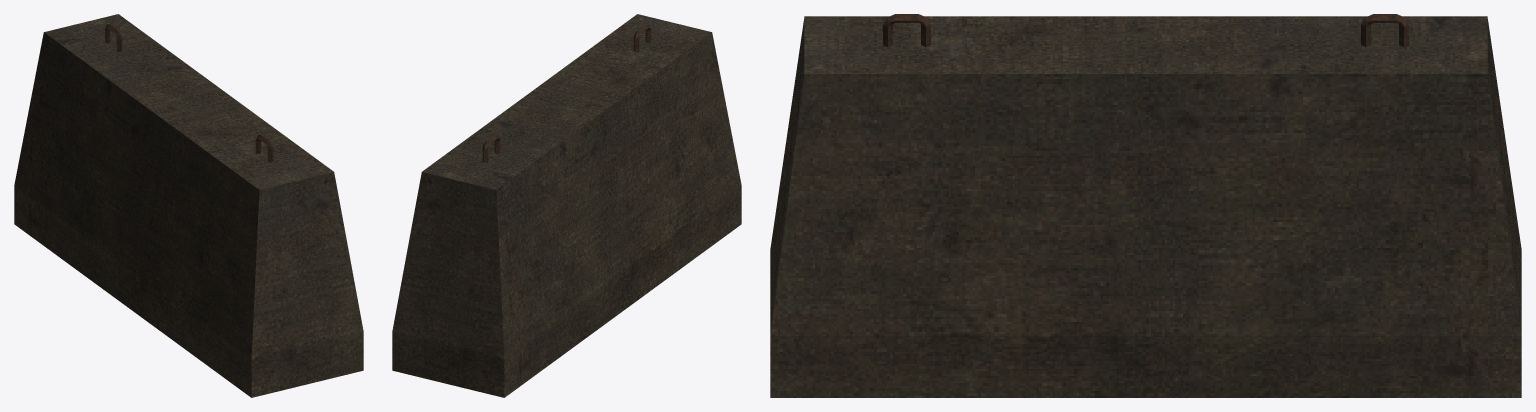
File: concrete_block_mx_1.glb
3 views of the same model, side by side, from view 1: azimuth 30°, elevation 25°; view 2: azimuth 150°, elevation 25°; view 3: azimuth 270°, elevation 25° (orthographic). The views are drawn at different scales.
Visible parts, largest first — view 1: concrete_block_mx_1; view 2: concrete_block_mx_1; view 3: concrete_block_mx_1.
Part boxes in pixels (bbox=[...]): concrete_block_mx_1: bbox=[14, 14, 363, 397]; concrete_block_mx_1: bbox=[392, 14, 741, 397]; concrete_block_mx_1: bbox=[770, 14, 1521, 397].
Bounding box in the file's own units: 0.6 × 1.1 × 2.2.
Materials: 2 (2 with a texture image).
